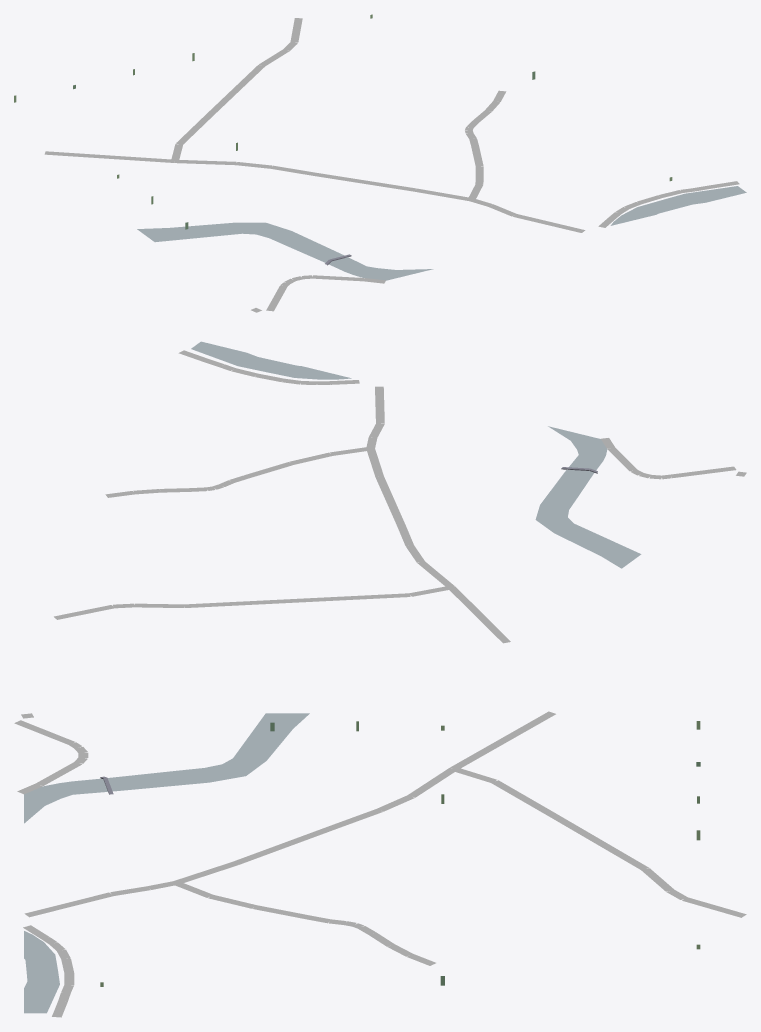
The picture shows the model from 3 angles, top to bottom: view 1: azimuth 30°, elevation 25°; view 2: azimuth 150°, elevation 25°; view 3: azimuth 270°, elevation 25°; orthographic projection. The views are drawn at different scales.
Size of the model in its own units: 505 by 11.13 by 516.
